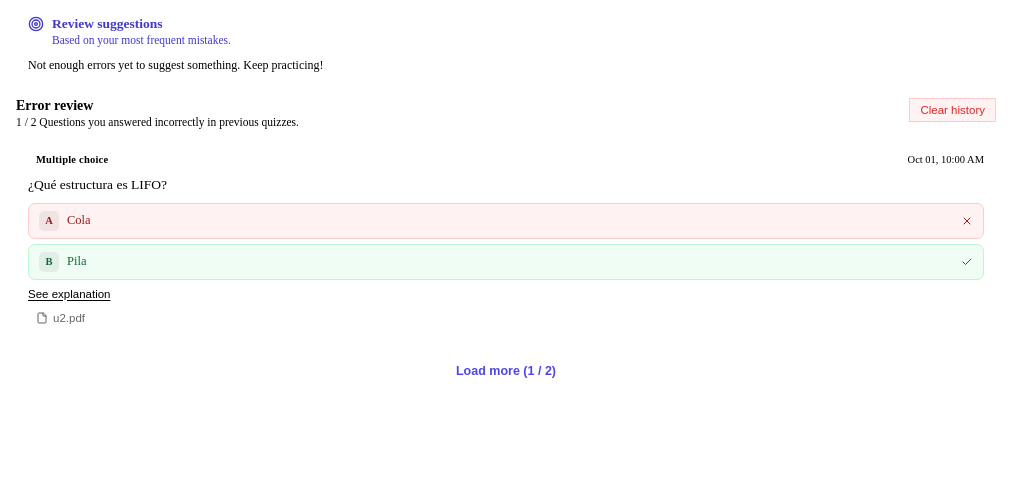
Test: ReviewPanel › carga más errores cuando hay más que los mostrados
Click the button "Load more (1 / 2)".
click(506, 371)  # box [16,356,996,386]
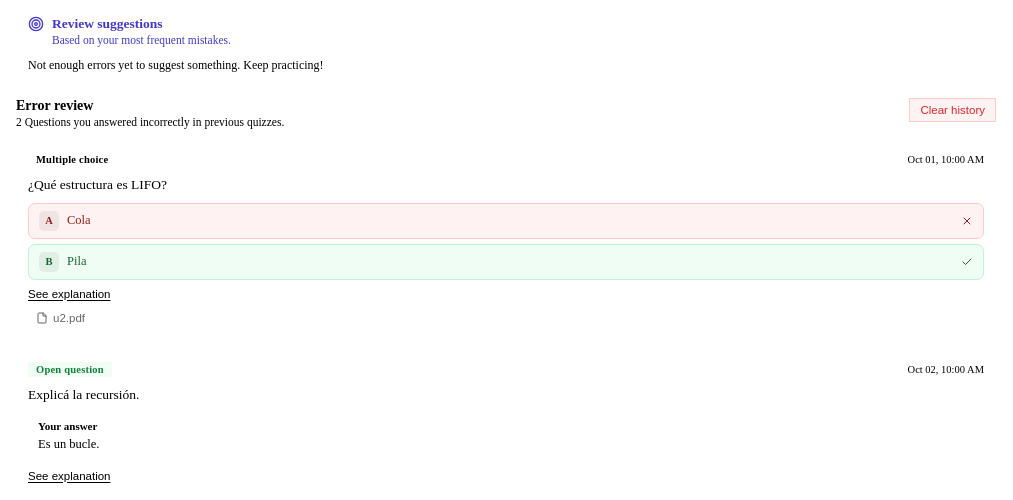
Result: the text "Explicá la recursión." is shown at [28,387,139,402]
